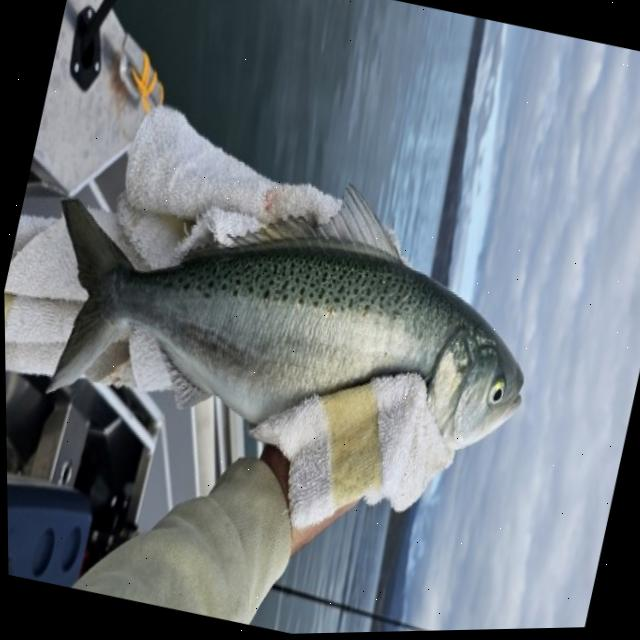Australian Salmon: (1, 98, 583, 583)
